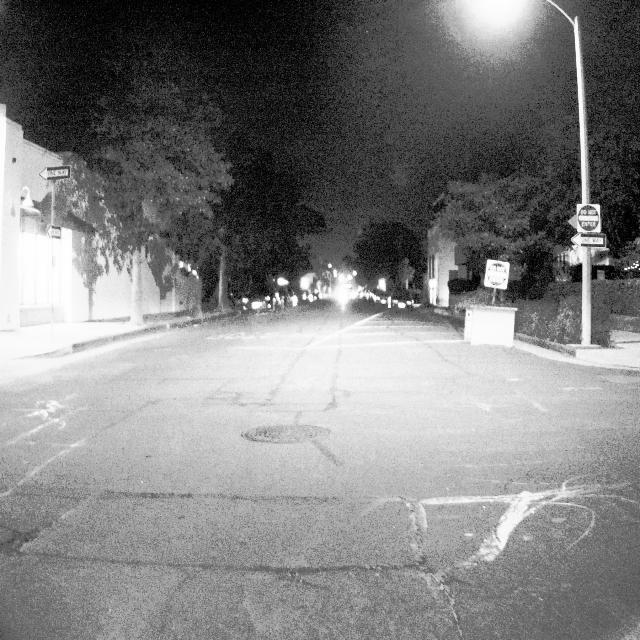Sign: (483, 259, 509, 291), (574, 201, 600, 233), (570, 234, 610, 248), (41, 165, 70, 179)
